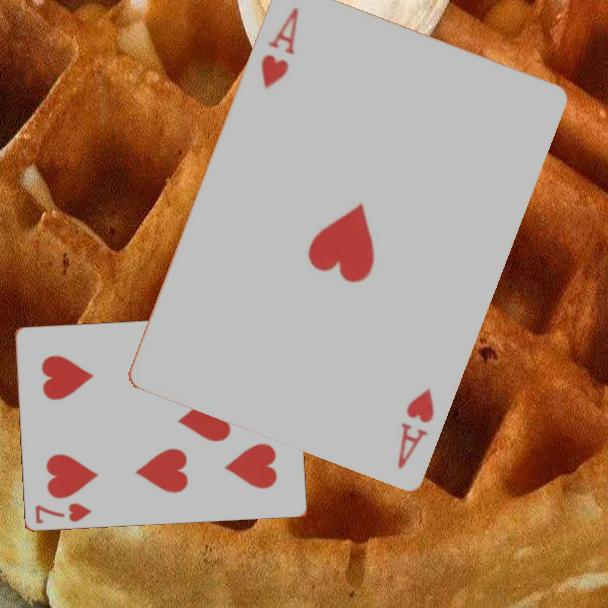h01: (257, 3, 301, 91), (393, 383, 437, 471)
h07: (32, 499, 95, 526)
